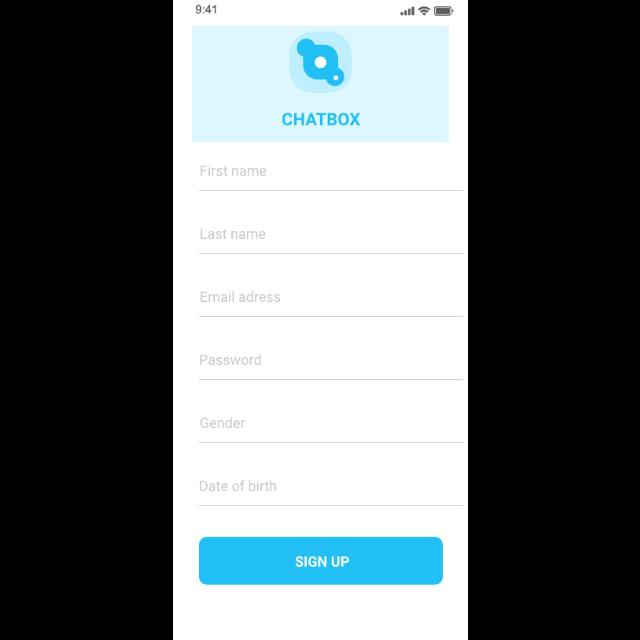image: (288, 32, 352, 94)
input: (198, 480, 464, 506), (198, 166, 462, 192), (198, 229, 462, 255), (198, 291, 462, 317), (198, 354, 462, 380), (199, 417, 463, 443)
text: (282, 112, 360, 126), (198, 481, 276, 492), (200, 292, 280, 302), (200, 166, 266, 177), (200, 354, 260, 366), (200, 230, 264, 240), (200, 417, 244, 429)
textbutton: (198, 537, 444, 585)
uppertaskbar: (194, 5, 454, 18)
